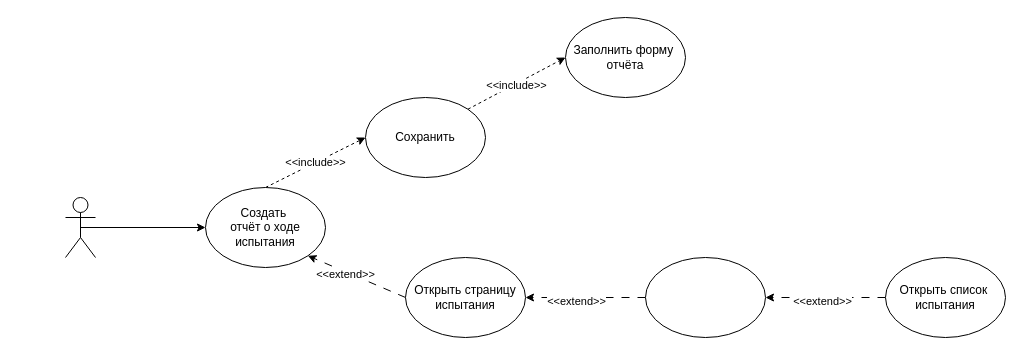
This 1023x355 diagram has some shape labels left out. Each missing label, with the centre of its shape:
Помощник/Супостатъ/ Сваха/Невеста/ Жених: point 80,227
Применить фильтр "Показывать только мои испытания": point 705,297
